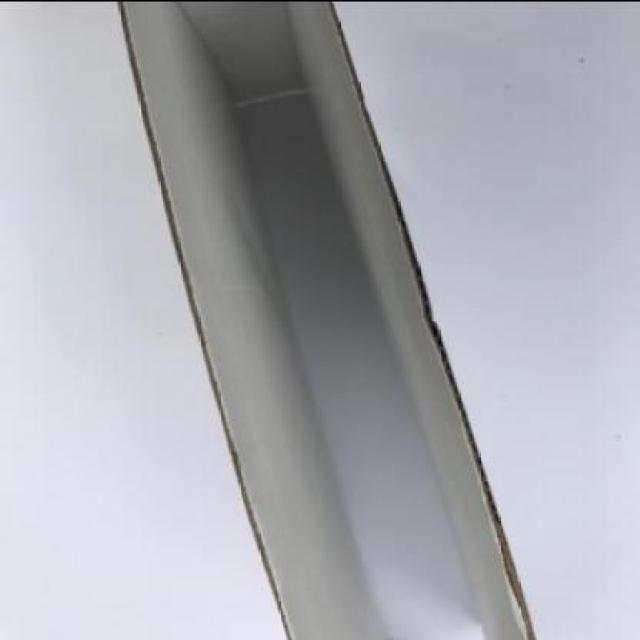CARDBOARD: (119, 1, 543, 638)
